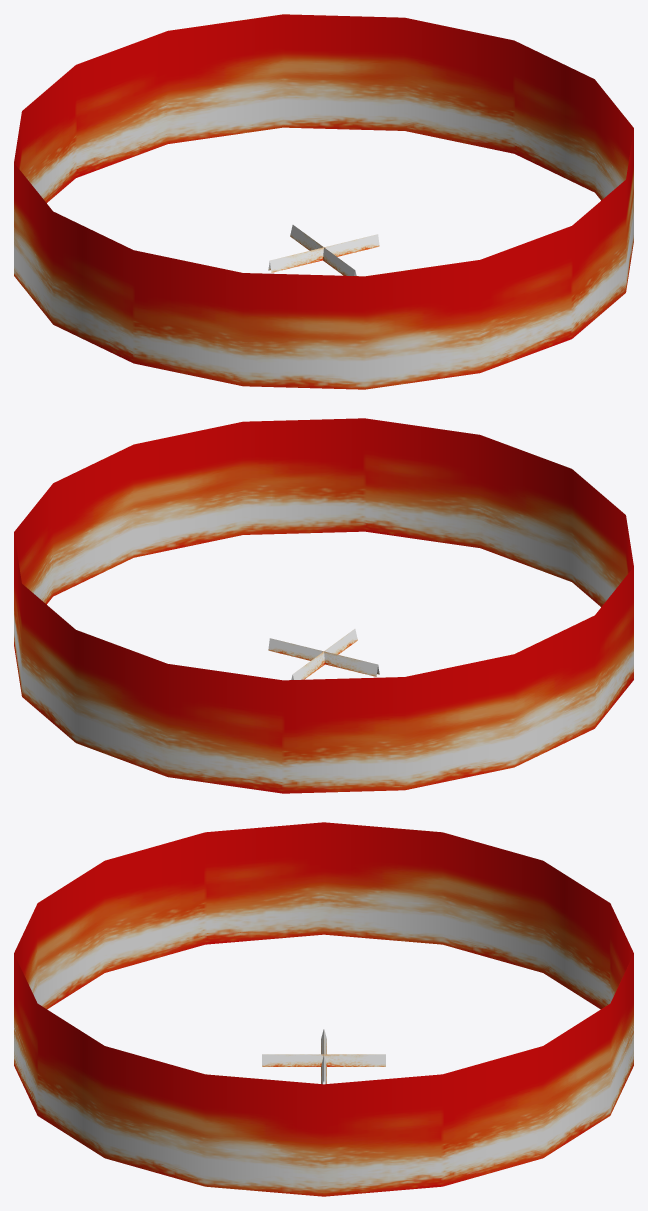
Rendered from godclient_cylinder_10m.fbx.
The picture shows the model from 3 angles, top to bottom: view 1: azimuth 30°, elevation 25°; view 2: azimuth 150°, elevation 25°; view 3: azimuth 270°, elevation 25°; orthographic projection.
Parts seen in each view (by area): view 1: mesh_node; view 2: mesh_node; view 3: mesh_node.
Boxes of the visible parts, x1,y1,x2,y2 form: mesh_node: (14, 14, 633, 389); mesh_node: (14, 418, 633, 793); mesh_node: (14, 822, 633, 1196).
Bounding box in the file's own units: 10 × 2 × 10.
1 material, 1 textured.
